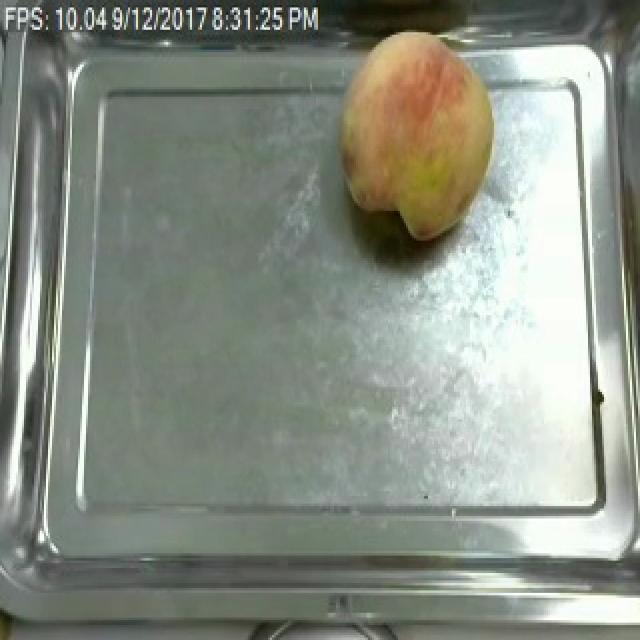Fruit: (326, 20, 506, 245)
